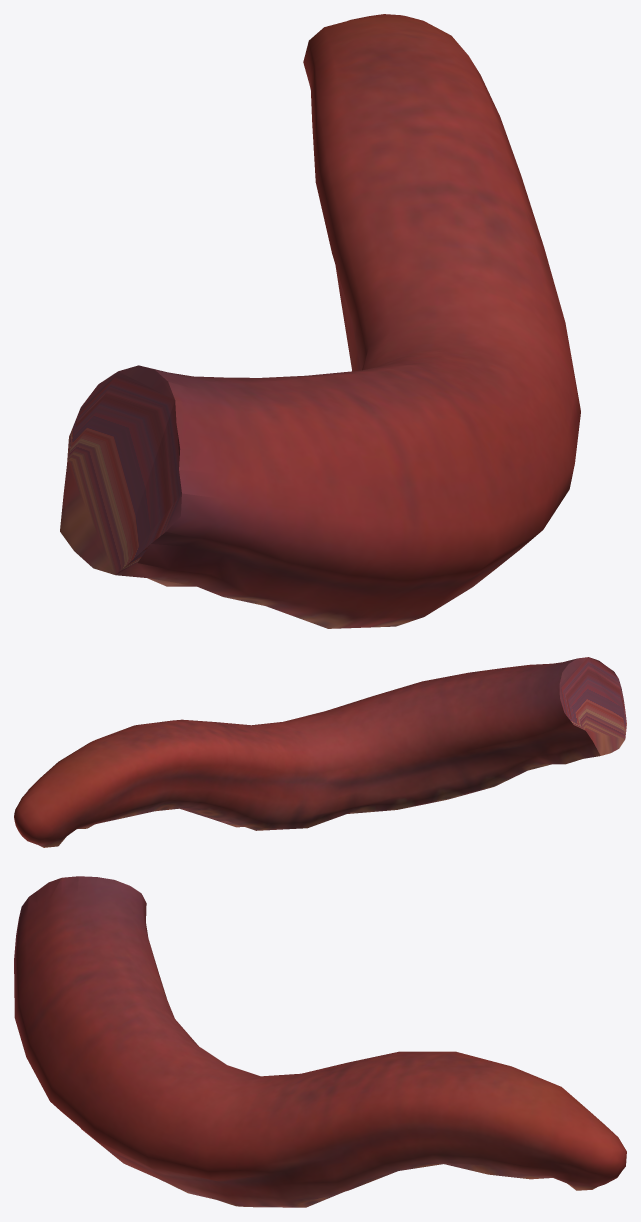
File: tentaculo6.obj
The picture shows the model from 3 angles, top to bottom: view 1: azimuth 30°, elevation 25°; view 2: azimuth 150°, elevation 25°; view 3: azimuth 270°, elevation 25°; orthographic projection. The views are drawn at different scales.
Visible parts, largest first — view 1: tentacle6; view 2: tentacle6; view 3: tentacle6.
Boxes of the visible parts, box(x1,y1,x2,y2) form: tentacle6: box(60, 14, 580, 628); tentacle6: box(14, 657, 626, 847); tentacle6: box(14, 876, 626, 1207).
Bounding box in the file's own units: 291 × 124 × 340.
2 materials, 2 textured.
